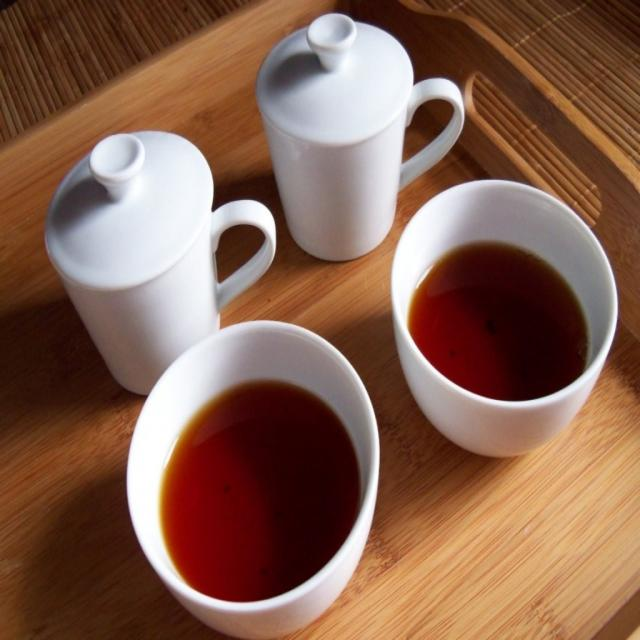Tea: (159, 380, 361, 606), (408, 237, 591, 401)
